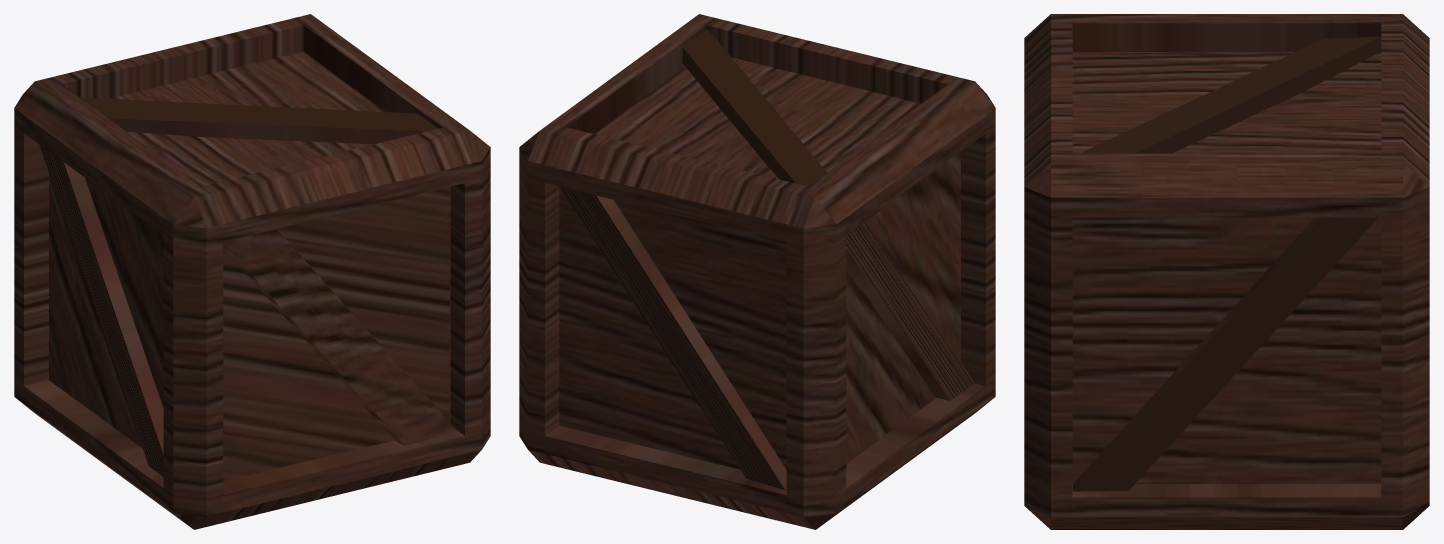
Rendered from plain crate.fbx.
3 renders of one model, left to right at view 1: azimuth 30°, elevation 25°; view 2: azimuth 150°, elevation 25°; view 3: azimuth 270°, elevation 25°, orthographic. The views are drawn at different scales.
Parts seen in each view (by area): view 1: Cube.001; view 2: Cube.001; view 3: Cube.001.
Part boxes in pixels (<box>): Cube.001: <box>14,14,490,529</box>; Cube.001: <box>519,14,995,529</box>; Cube.001: <box>1024,14,1429,529</box>.
Size of the model in its own units: 200 by 200 by 200.
